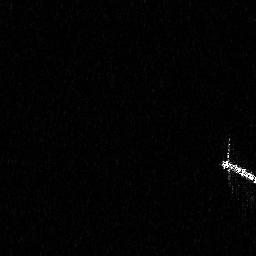ship: (218, 137, 256, 186)
